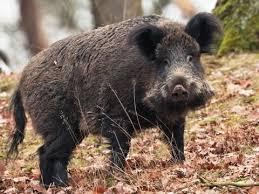wildboar: (4, 11, 230, 187)
